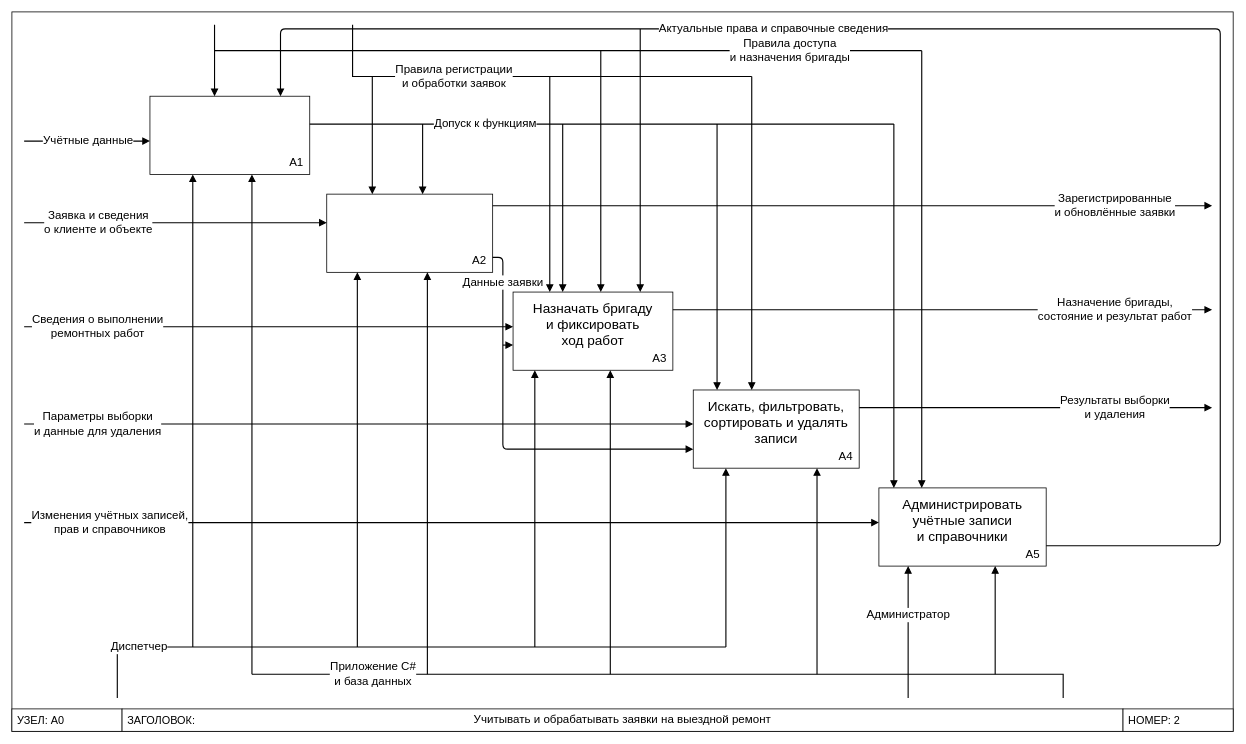
Some shapes in this 1246 by 744 pixel diagram are drawn without their labels. Here are the shapes that lost their labels. From the top down, the box of each, then its label:
(149, 95, 310, 174): Проверять доступ пользователя
(326, 193, 493, 272): Регистрировать, просматривать и изменять заявки
